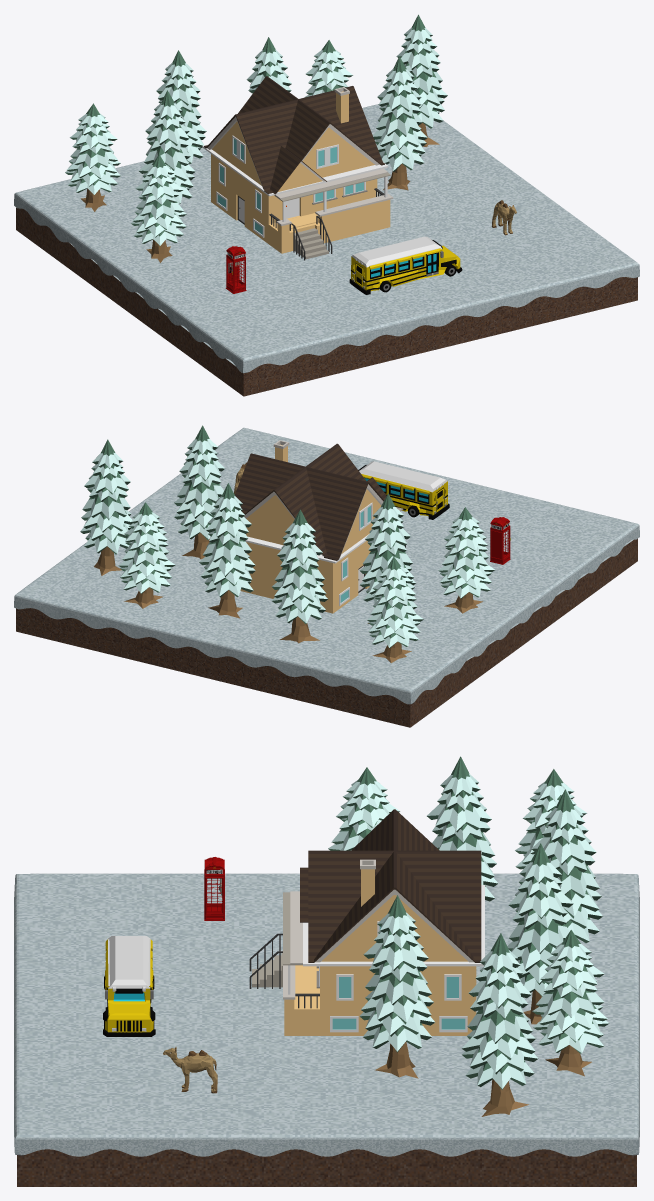
The picture shows the model from 3 angles, top to bottom: view 1: azimuth 30°, elevation 25°; view 2: azimuth 150°, elevation 25°; view 3: azimuth 270°, elevation 25°; orthographic projection. The views are drawn at different scales.
Visible parts, largest first — view 1: Cube.003, Cube.235, VEHICLES_SCHOOL_BUS, OBJRANDOM_PHONEBOOTH; view 2: Cube.003, Cube.235, VEHICLES_SCHOOL_BUS, OBJRANDOM_PHONEBOOTH; view 3: Cube.003, Cube.235, VEHICLES_SCHOOL_BUS, OBJRANDOM_PHONEBOOTH, ANIMAL_CAMELLO.
Part boxes in pixels (x1=…): Cube.003: x1=14, y1=14, x2=639, y2=396; Cube.235: x1=202, y1=76, x2=393, y2=260; VEHICLES_SCHOOL_BUS: x1=349, y1=236, x2=462, y2=294; OBJRANDOM_PHONEBOOTH: x1=225, y1=246, x2=246, y2=293; Cube.003: x1=14, y1=425, x2=639, y2=727; Cube.235: x1=235, y1=440, x2=405, y2=613; VEHICLES_SCHOOL_BUS: x1=358, y1=461, x2=449, y2=519; OBJRANDOM_PHONEBOOTH: x1=490, y1=517, x2=510, y2=564; Cube.003: x1=14, y1=756, x2=639, y2=1186; Cube.235: x1=249, y1=809, x2=484, y2=1035; VEHICLES_SCHOOL_BUS: x1=103, y1=936, x2=155, y2=1036; OBJRANDOM_PHONEBOOTH: x1=204, y1=857, x2=224, y2=920; ANIMAL_CAMELLO: x1=163, y1=1047, x2=217, y2=1093.
Bounding box in the file's own units: 4040 × 1700 × 4040.
42 materials, 3 textured.
